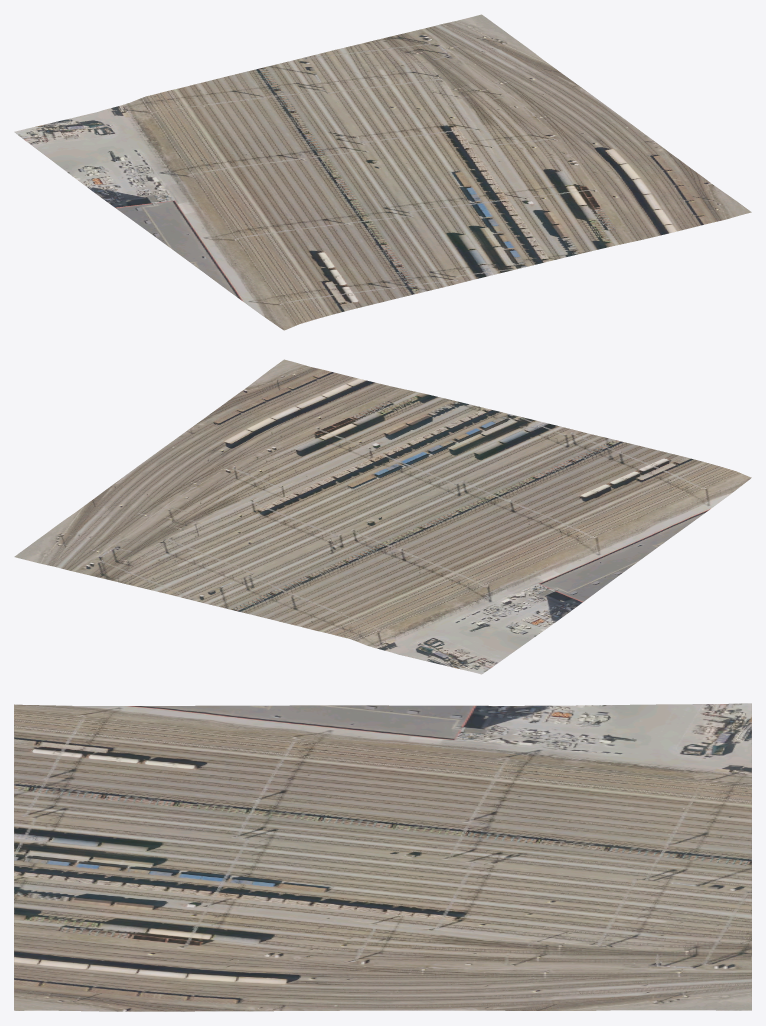
The model's file is CM_Terrain_24487797_6819180.fbx.
3 views of the same model, one above another, from view 1: azimuth 30°, elevation 25°; view 2: azimuth 150°, elevation 25°; view 3: azimuth 270°, elevation 25° (orthographic). The views are drawn at different scales.
Parts seen in each view (by area): view 1: CM_Terrain_24487797_6819180_LOD0; view 2: CM_Terrain_24487797_6819180_LOD0; view 3: CM_Terrain_24487797_6819180_LOD0.
Boxes of the visible parts, <box> form: CM_Terrain_24487797_6819180_LOD0: <box>14,14,751,330</box>; CM_Terrain_24487797_6819180_LOD0: <box>14,359,751,674</box>; CM_Terrain_24487797_6819180_LOD0: <box>14,703,751,1011</box>.
Size of what is drawn, in the model's own units: 205 by 2.46 by 205.
